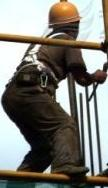boots: (51, 163, 90, 175), (68, 174, 87, 188)
gloves: (75, 69, 106, 87), (1, 0, 1, 0)
hard-hat: (47, 0, 82, 26)
